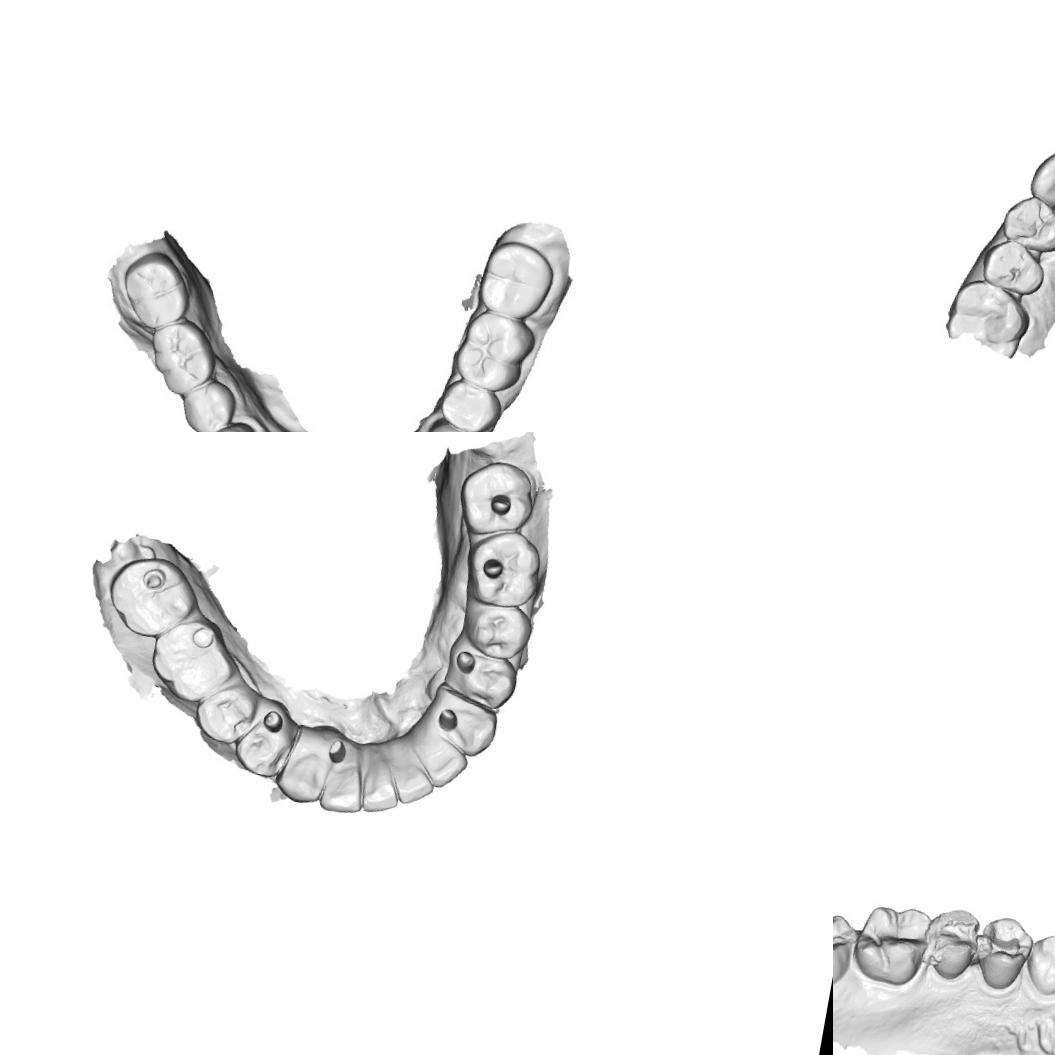canine: (416, 680, 503, 762), (269, 722, 332, 808), (1018, 926, 1055, 1003), (1024, 142, 1055, 215)
incisor: (352, 733, 408, 816), (316, 736, 371, 819), (410, 728, 473, 793), (384, 736, 440, 808)
inlay: (974, 920, 1026, 974)
molar: (142, 611, 244, 709), (102, 547, 202, 646), (451, 453, 544, 547), (456, 521, 549, 614), (448, 306, 540, 398), (112, 242, 200, 336), (848, 896, 934, 990), (472, 235, 558, 327), (140, 312, 224, 403), (940, 274, 1035, 353), (833, 903, 861, 995)
premolar: (225, 693, 299, 781), (441, 640, 528, 714), (916, 902, 984, 985), (188, 676, 258, 754), (458, 596, 537, 665), (977, 235, 1051, 300), (435, 376, 507, 432), (996, 191, 1055, 256), (173, 375, 237, 432), (196, 414, 261, 432), (416, 418, 486, 432)
